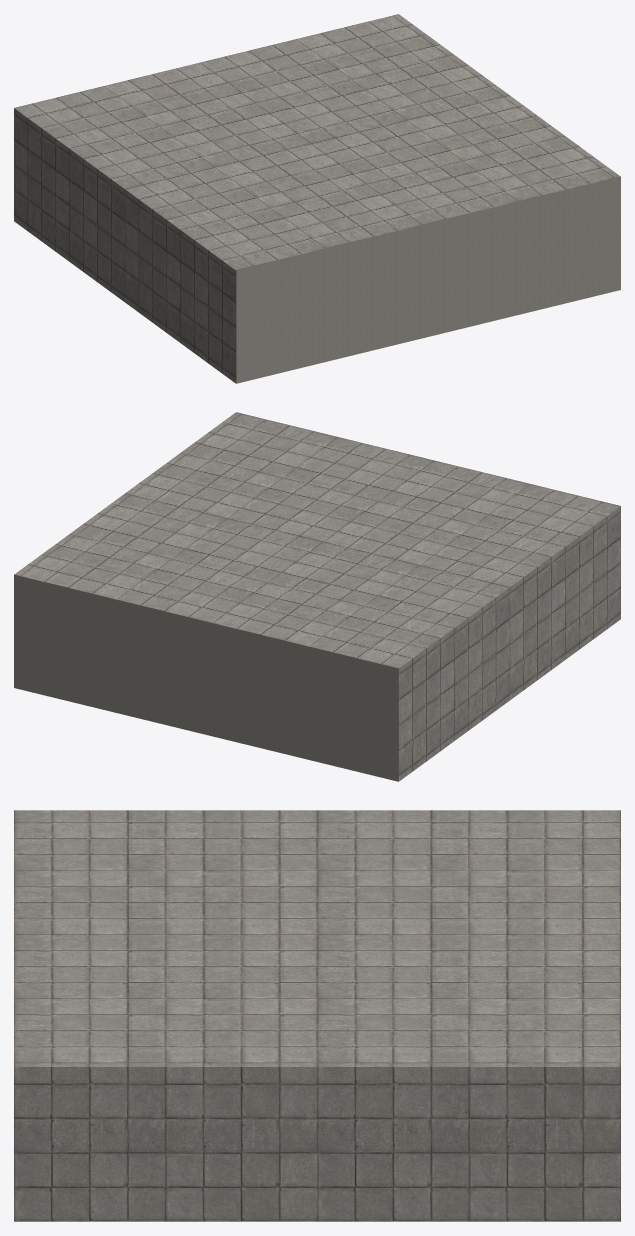
Rendered from pavement7.fbx.
3 renders of one model, top to bottom at view 1: azimuth 30°, elevation 25°; view 2: azimuth 150°, elevation 25°; view 3: azimuth 270°, elevation 25°, orthographic. The views are drawn at different scales.
Parts seen in each view (by area): view 1: materialA100; view 2: materialA100; view 3: materialA100.
Part boxes in pixels (x1=…): materialA100: x1=14, y1=14, x2=620, y2=383; materialA100: x1=14, y1=412, x2=620, y2=781; materialA100: x1=14, y1=810, x2=620, y2=1221.
Bounding box in the file's own units: 6.4 × 1.8 × 6.4.
